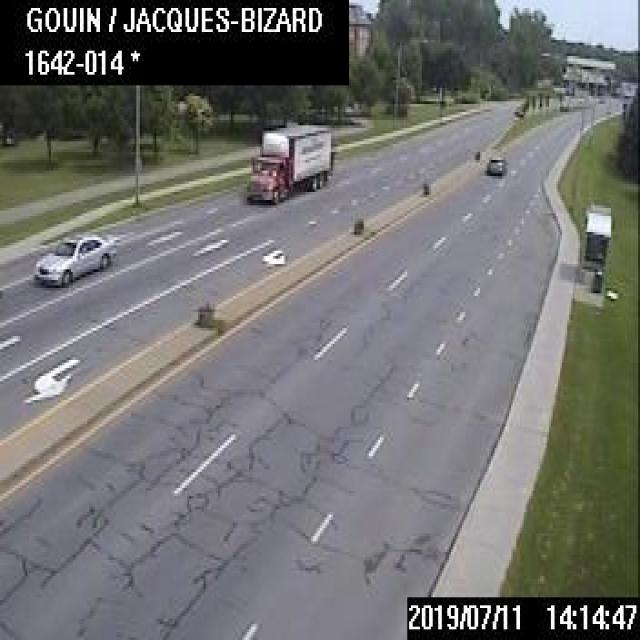vehicle: (244, 123, 330, 202), (32, 231, 115, 286), (486, 154, 505, 173)
